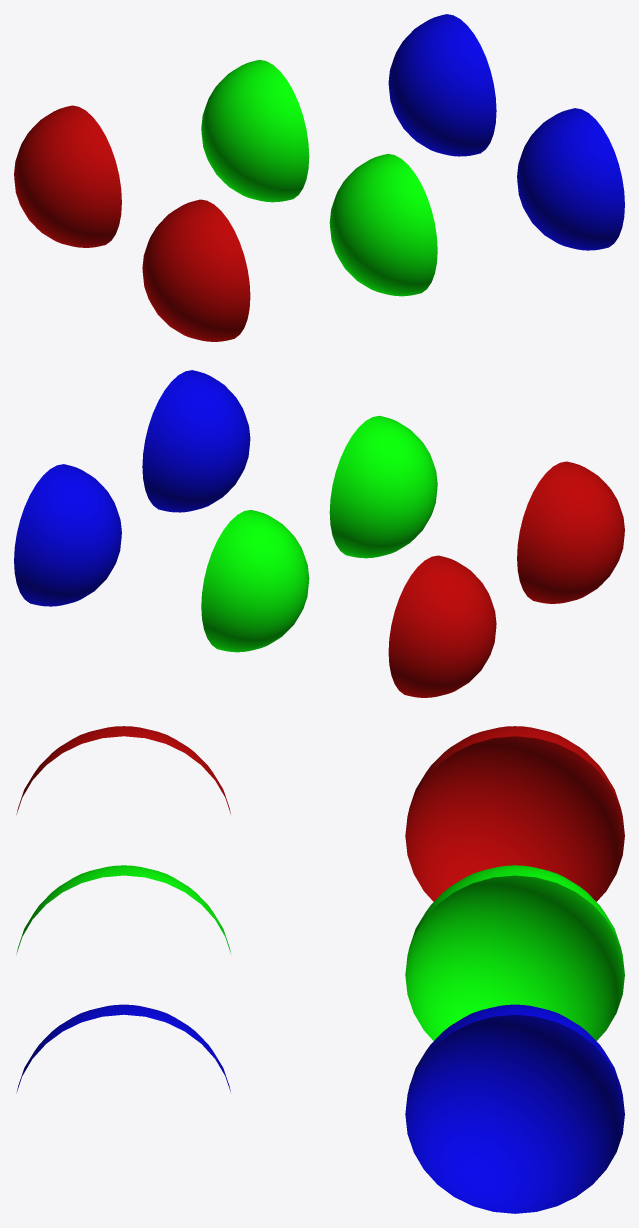
The model's file is BackfaceCulling.gltf.
The picture shows the model from 3 angles, top to bottom: view 1: azimuth 30°, elevation 25°; view 2: azimuth 150°, elevation 25°; view 3: azimuth 270°, elevation 25°; orthographic projection. The views are drawn at different scales.
Visible parts, largest first — view 1: StandardMeshBackfaceCullingOn, PhysicalMeshBackfaceCullingOn, StandardArnoldMeshBackfaceCullingOn, StandardArnoldMeshBackfaceCullingOff, PhysicalMeshBackfaceCullingOff, StandardMeshBackfaceCullingOff; view 2: StandardMeshBackfaceCullingOff, PhysicalMeshBackfaceCullingOff, StandardArnoldMeshBackfaceCullingOff, StandardArnoldMeshBackfaceCullingOn, PhysicalMeshBackfaceCullingOn, StandardMeshBackfaceCullingOn; view 3: StandardArnoldMeshBackfaceCullingOff, PhysicalMeshBackfaceCullingOff, StandardMeshBackfaceCullingOff, PhysicalMeshBackfaceCullingOn, StandardArnoldMeshBackfaceCullingOn, StandardMeshBackfaceCullingOn.
Boxes of the visible parts, x1=… form: StandardMeshBackfaceCullingOn: x1=142, y1=199, x2=250, y2=341; PhysicalMeshBackfaceCullingOn: x1=329, y1=154, x2=437, y2=296; StandardArnoldMeshBackfaceCullingOn: x1=517, y1=108, x2=624, y2=250; StandardArnoldMeshBackfaceCullingOff: x1=388, y1=14, x2=496, y2=156; PhysicalMeshBackfaceCullingOff: x1=201, y1=59, x2=309, y2=202; StandardMeshBackfaceCullingOff: x1=14, y1=105, x2=121, y2=247; StandardMeshBackfaceCullingOff: x1=388, y1=555, x2=496, y2=697; PhysicalMeshBackfaceCullingOff: x1=201, y1=510, x2=309, y2=652; StandardArnoldMeshBackfaceCullingOff: x1=14, y1=464, x2=121, y2=606; StandardArnoldMeshBackfaceCullingOn: x1=142, y1=370, x2=250, y2=512; PhysicalMeshBackfaceCullingOn: x1=329, y1=415, x2=437, y2=558; StandardMeshBackfaceCullingOn: x1=517, y1=461, x2=624, y2=603; StandardArnoldMeshBackfaceCullingOff: x1=405, y1=1004, x2=624, y2=1213; PhysicalMeshBackfaceCullingOff: x1=405, y1=865, x2=624, y2=1040; StandardMeshBackfaceCullingOff: x1=405, y1=726, x2=624, y2=901; PhysicalMeshBackfaceCullingOn: x1=16, y1=865, x2=231, y2=954; StandardArnoldMeshBackfaceCullingOn: x1=16, y1=1004, x2=230, y2=1092; StandardMeshBackfaceCullingOn: x1=16, y1=726, x2=230, y2=814.
Size of the model in its own units: 7 by 2 by 5.56.
